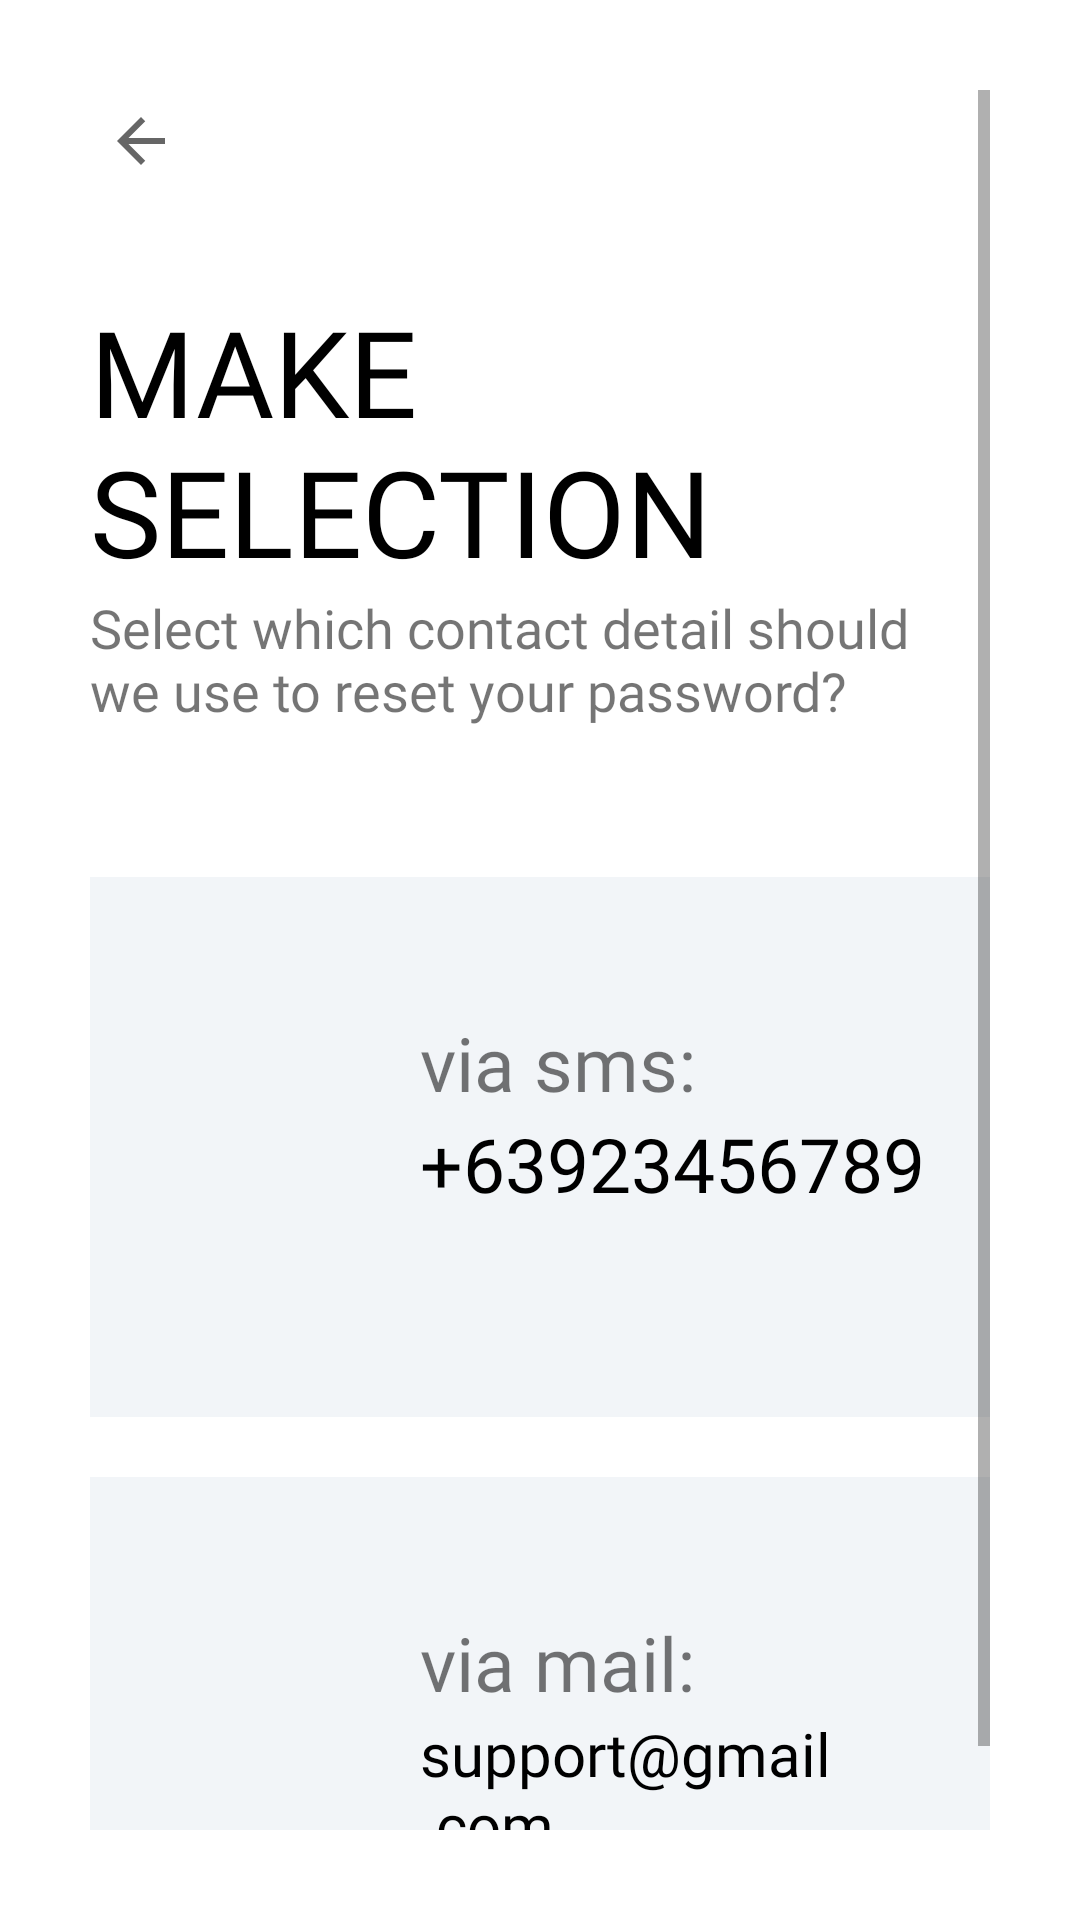

Icons on this 1080×1920 Android screen, each with the point to tap as (x=x, y=y):
arrow back: (x=141, y=141)
